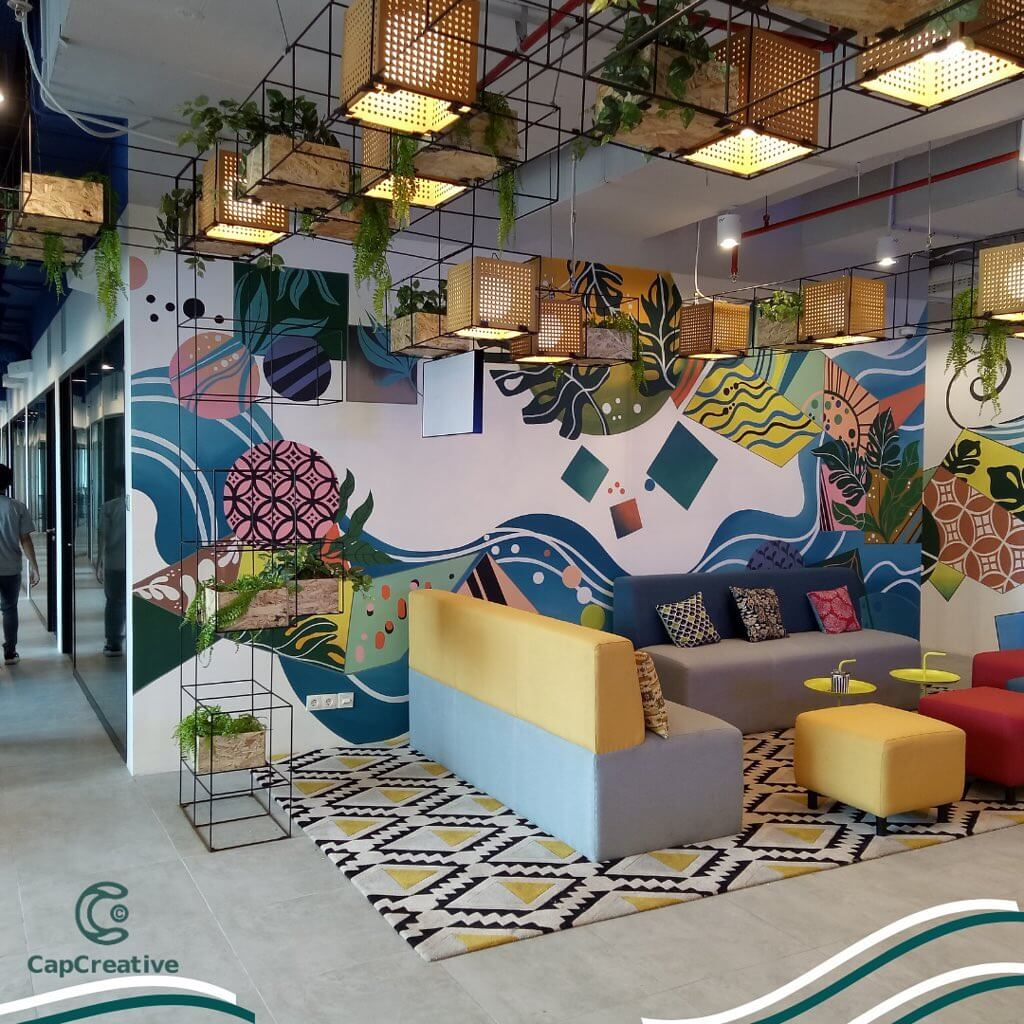kuning: (785, 699, 970, 812)
merah: (961, 654, 1024, 794)
